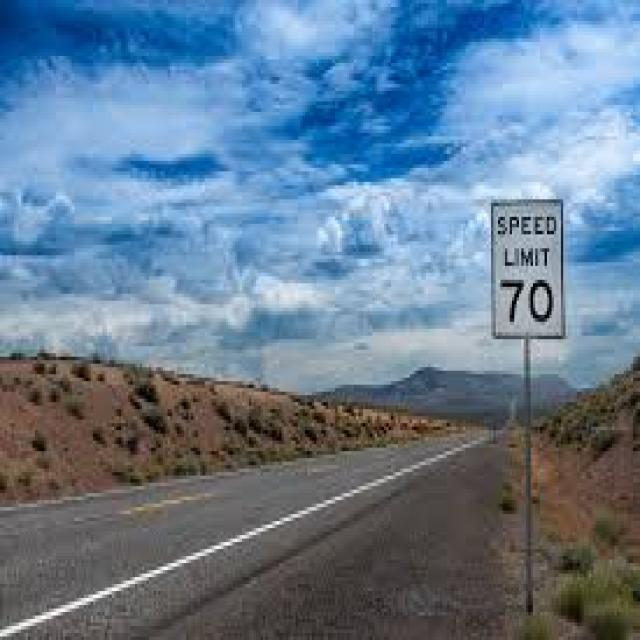speedLimit70: (488, 196, 566, 343)
